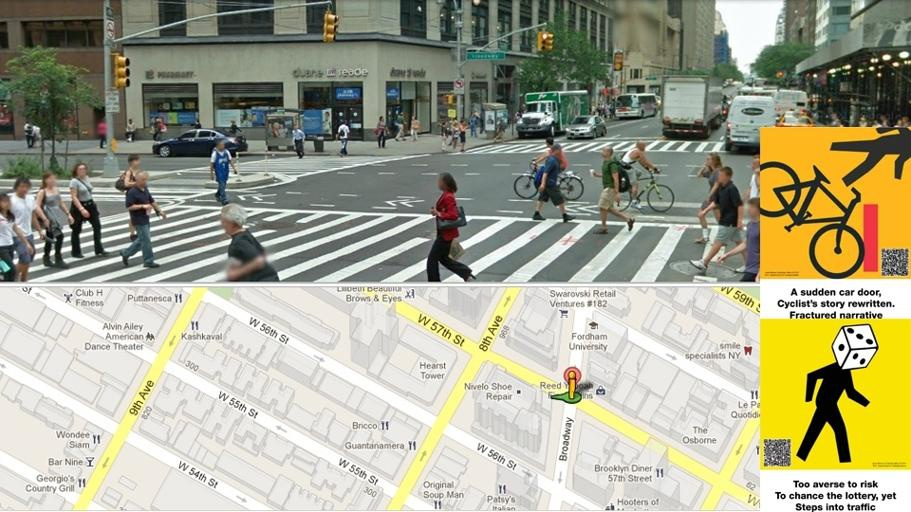non-vehicle: (599, 166, 679, 214), (511, 157, 586, 200)
